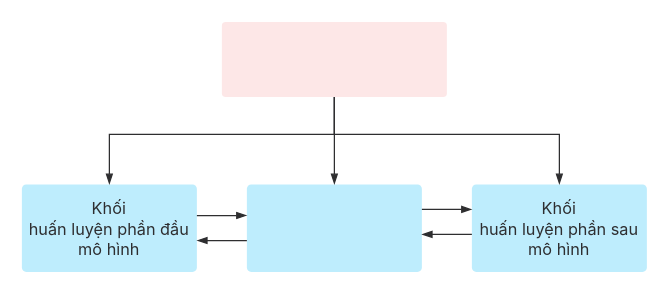
The diagram is 668 pixels wide and 293 high, and some of its shapes have lost their labels. The centre of each missing label's shape, as x and y in pixels:
"Khối truyền thông" belongs at (x=333, y=227).
"Khối điều khiển trung tâm" belongs at (x=333, y=58).
